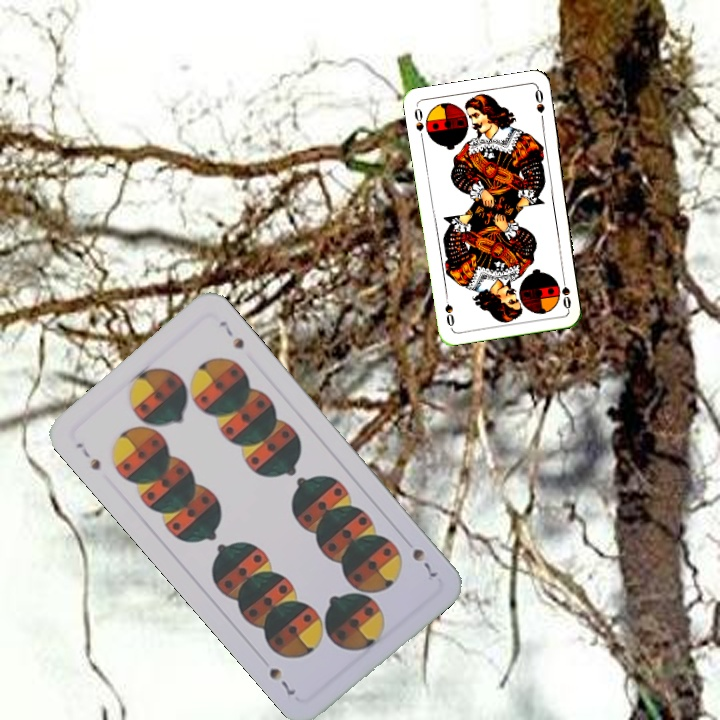S7: (71, 438, 104, 473), (408, 544, 439, 580)
SO: (558, 271, 574, 312), (410, 103, 426, 143)
